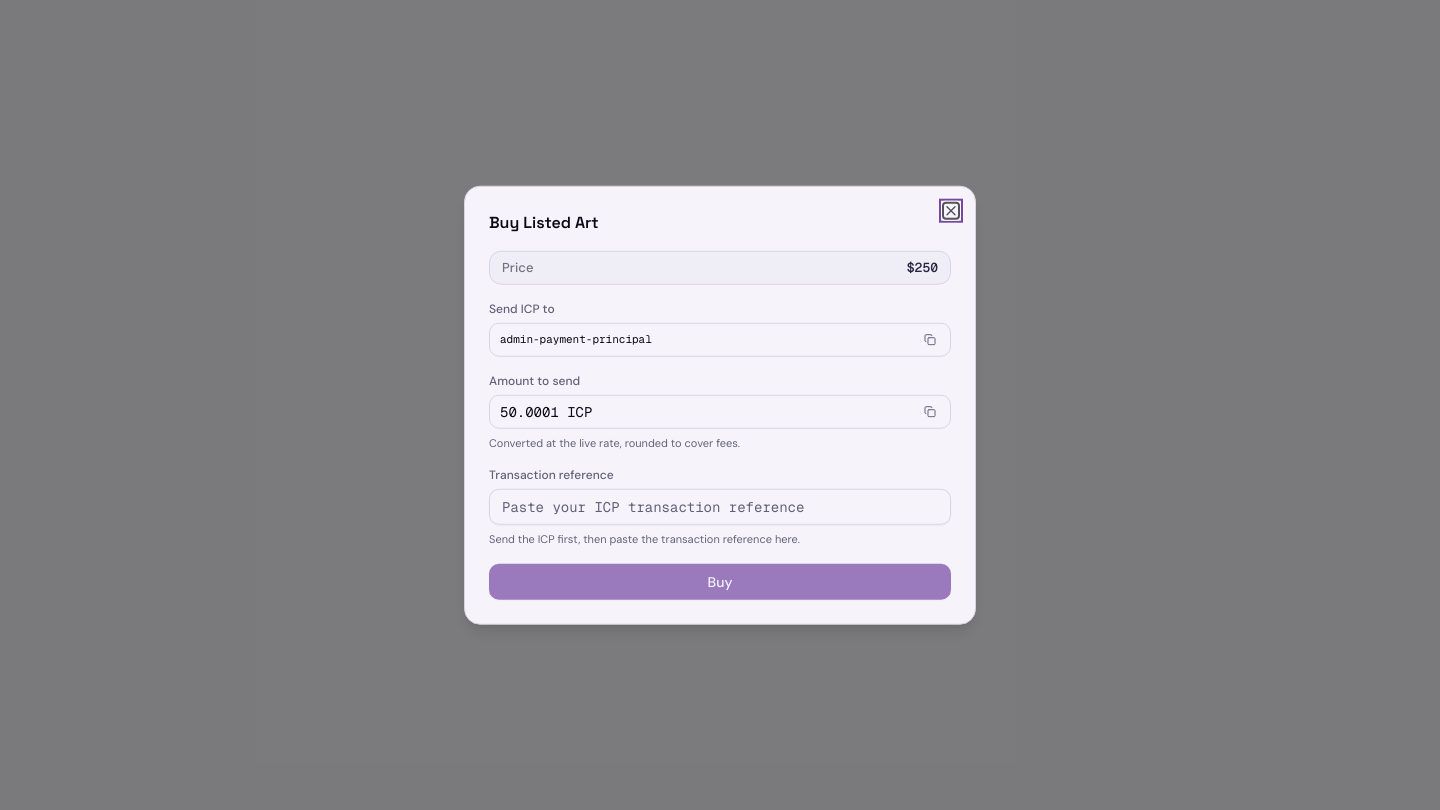
Test: PurchaseModal (cover) › surfaces a submit rejection as a polite error state
Type "42" into the field labelled "Transaction reference" at (720, 507), box [489,489,951,525]
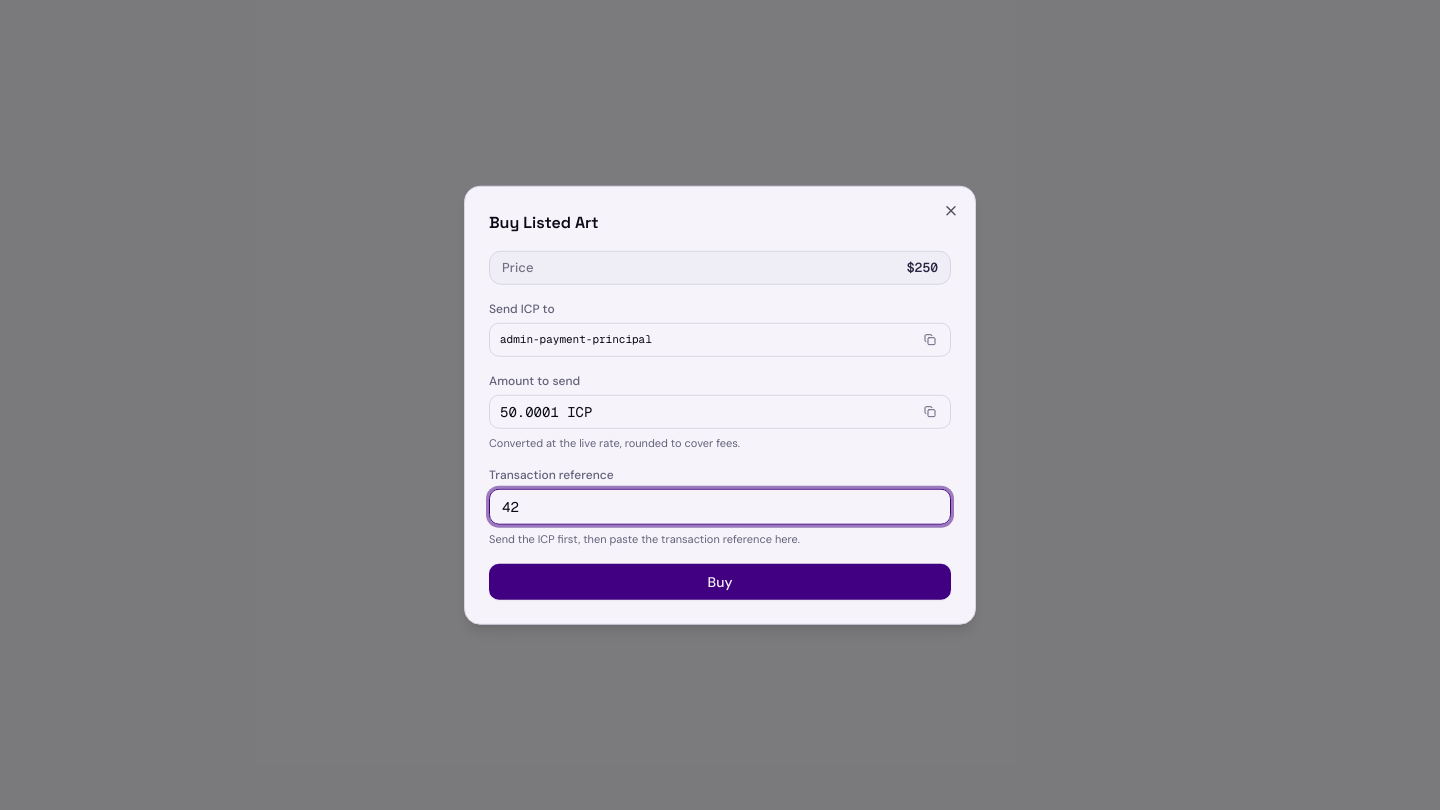
Click the button "Buy" at (720, 581), box [489,563,951,599]
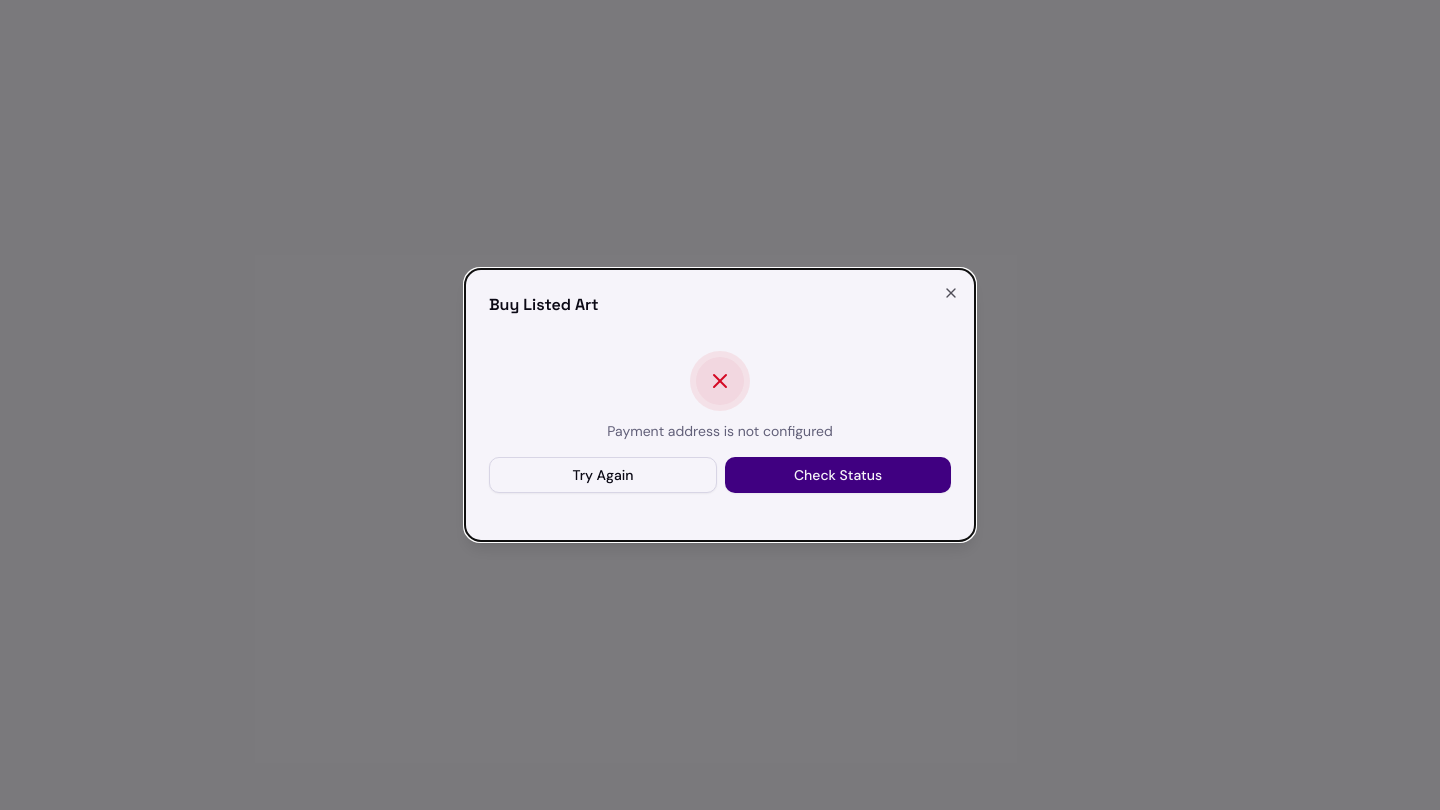
expect the element showing "Payment address is not configured Try Again Check Status" is shown: met, box [489,333,951,517]
expect the text "Payment address is not configured" is shown: met, box [607,421,833,441]
